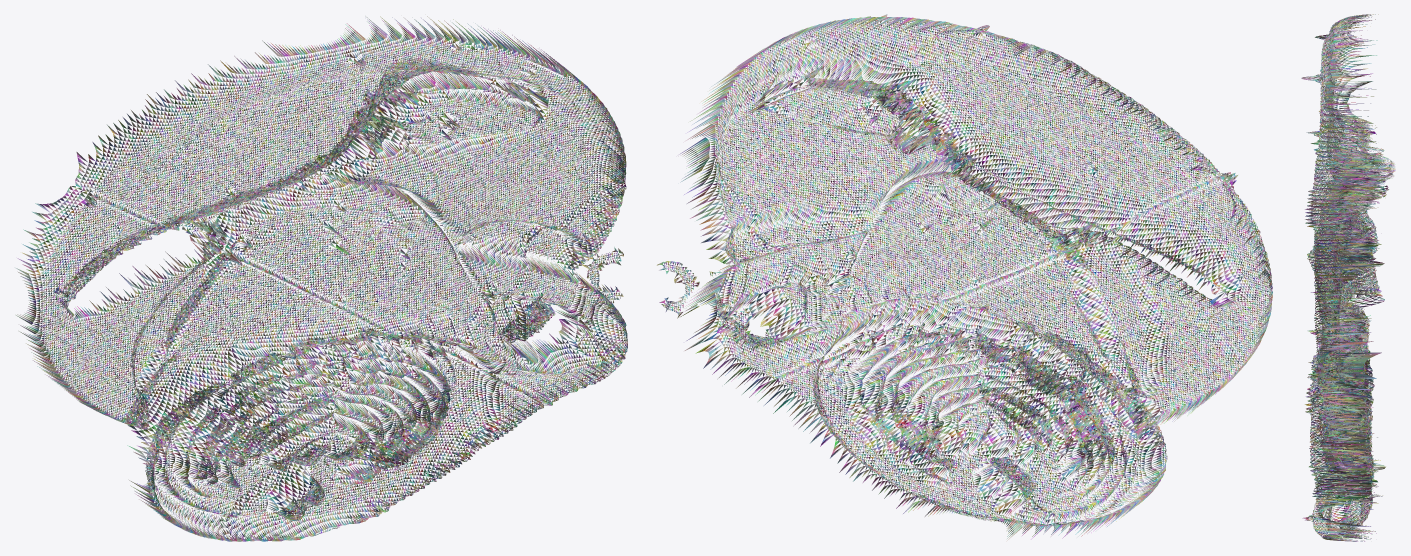
File: result.gltf
The picture shows the model from 3 angles, left to right: view 1: azimuth 30°, elevation 25°; view 2: azimuth 150°, elevation 25°; view 3: azimuth 270°, elevation 25°; orthographic projection. The views are drawn at different scales.
Bounding box in the file's own units: 284 × 219 × 42.37.
